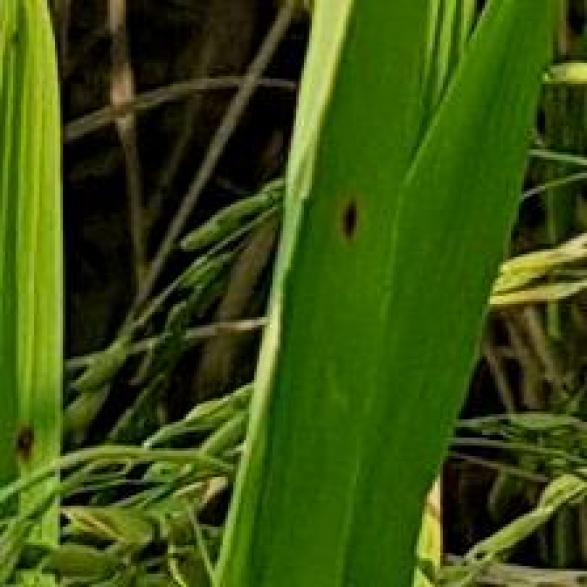Brown_Spot: (328, 176, 364, 249)
